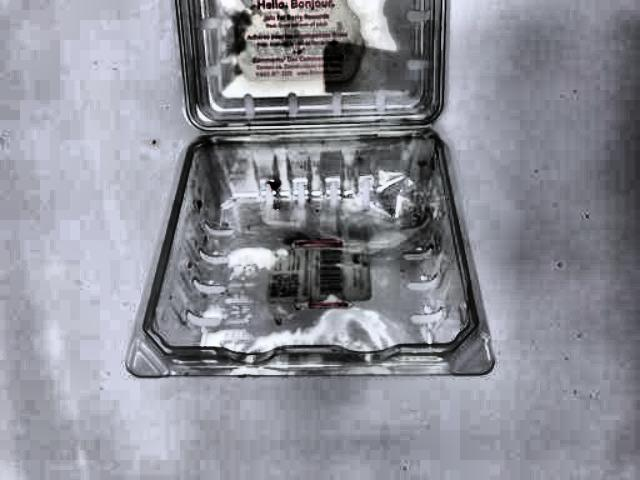Plastic: (117, 4, 499, 374)
